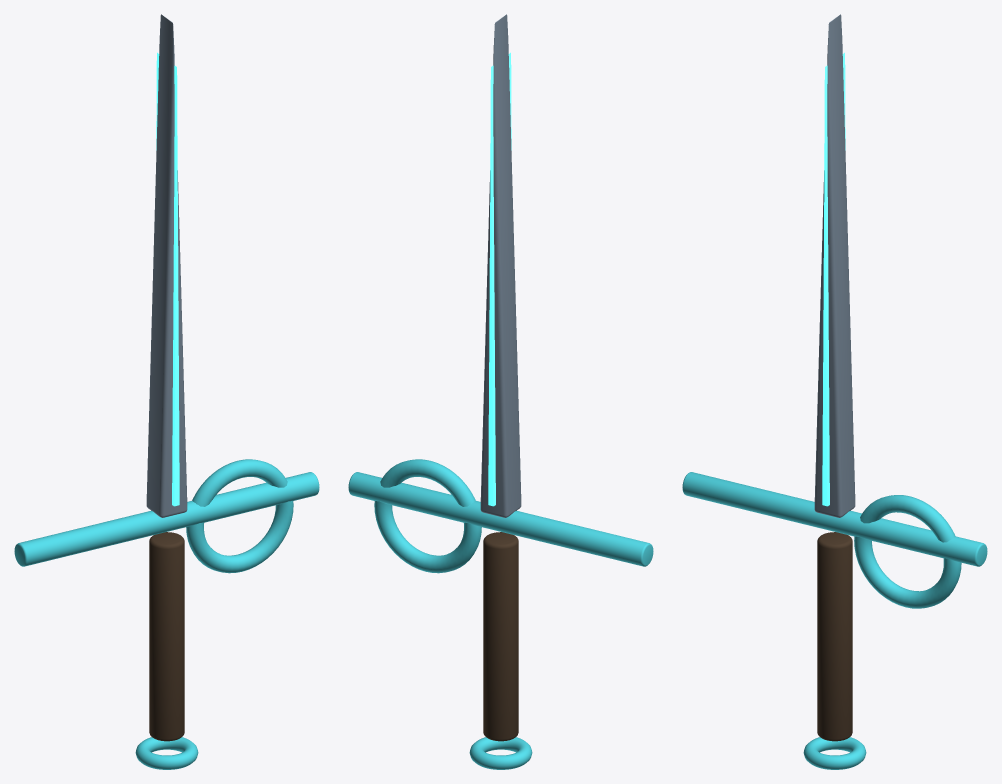
File: sword_v5.glb
3 views of the same model, side by side, from view 1: azimuth 30°, elevation 25°; view 2: azimuth 150°, elevation 25°; view 3: azimuth 330°, elevation 25° (orthographic).
Visible parts, largest first — view 1: ESTOC_BLADE_PRIMARY, GRIP_SECONDARY, ESTOC_CROSSGUARD_ACCENT, ESTOC_SIDE_RING_ACCENT, ESTOC_RIDGE_EMISSIVE, POMMEL_ACCENT; view 2: ESTOC_BLADE_PRIMARY, GRIP_SECONDARY, ESTOC_CROSSGUARD_ACCENT, ESTOC_SIDE_RING_ACCENT, ESTOC_RIDGE_EMISSIVE, POMMEL_ACCENT; view 3: ESTOC_BLADE_PRIMARY, GRIP_SECONDARY, ESTOC_CROSSGUARD_ACCENT, ESTOC_SIDE_RING_ACCENT, ESTOC_RIDGE_EMISSIVE, POMMEL_ACCENT.
Boxes of the visible parts, x1=… form: ESTOC_BLADE_PRIMARY: x1=146, y1=14, x2=187, y2=517; GRIP_SECONDARY: x1=149, y1=532, x2=184, y2=741; ESTOC_CROSSGUARD_ACCENT: x1=14, y1=472, x2=319, y2=566; ESTOC_SIDE_RING_ACCENT: x1=186, y1=459, x2=293, y2=573; ESTOC_RIDGE_EMISSIVE: x1=156, y1=52, x2=179, y2=506; POMMEL_ACCENT: x1=135, y1=737, x2=198, y2=769; ESTOC_BLADE_PRIMARY: x1=480, y1=14, x2=521, y2=517; GRIP_SECONDARY: x1=483, y1=532, x2=518, y2=741; ESTOC_CROSSGUARD_ACCENT: x1=348, y1=472, x2=653, y2=566; ESTOC_SIDE_RING_ACCENT: x1=374, y1=459, x2=481, y2=573; ESTOC_RIDGE_EMISSIVE: x1=488, y1=52, x2=511, y2=506; POMMEL_ACCENT: x1=469, y1=737, x2=532, y2=769; ESTOC_BLADE_PRIMARY: x1=814, y1=14, x2=855, y2=517; GRIP_SECONDARY: x1=817, y1=532, x2=852, y2=741; ESTOC_CROSSGUARD_ACCENT: x1=682, y1=472, x2=987, y2=566; ESTOC_SIDE_RING_ACCENT: x1=854, y1=495, x2=961, y2=608; ESTOC_RIDGE_EMISSIVE: x1=822, y1=52, x2=845, y2=506; POMMEL_ACCENT: x1=803, y1=737, x2=866, y2=769.
Size of the model in its own units: 2.1 by 5.05 by 0.387.
